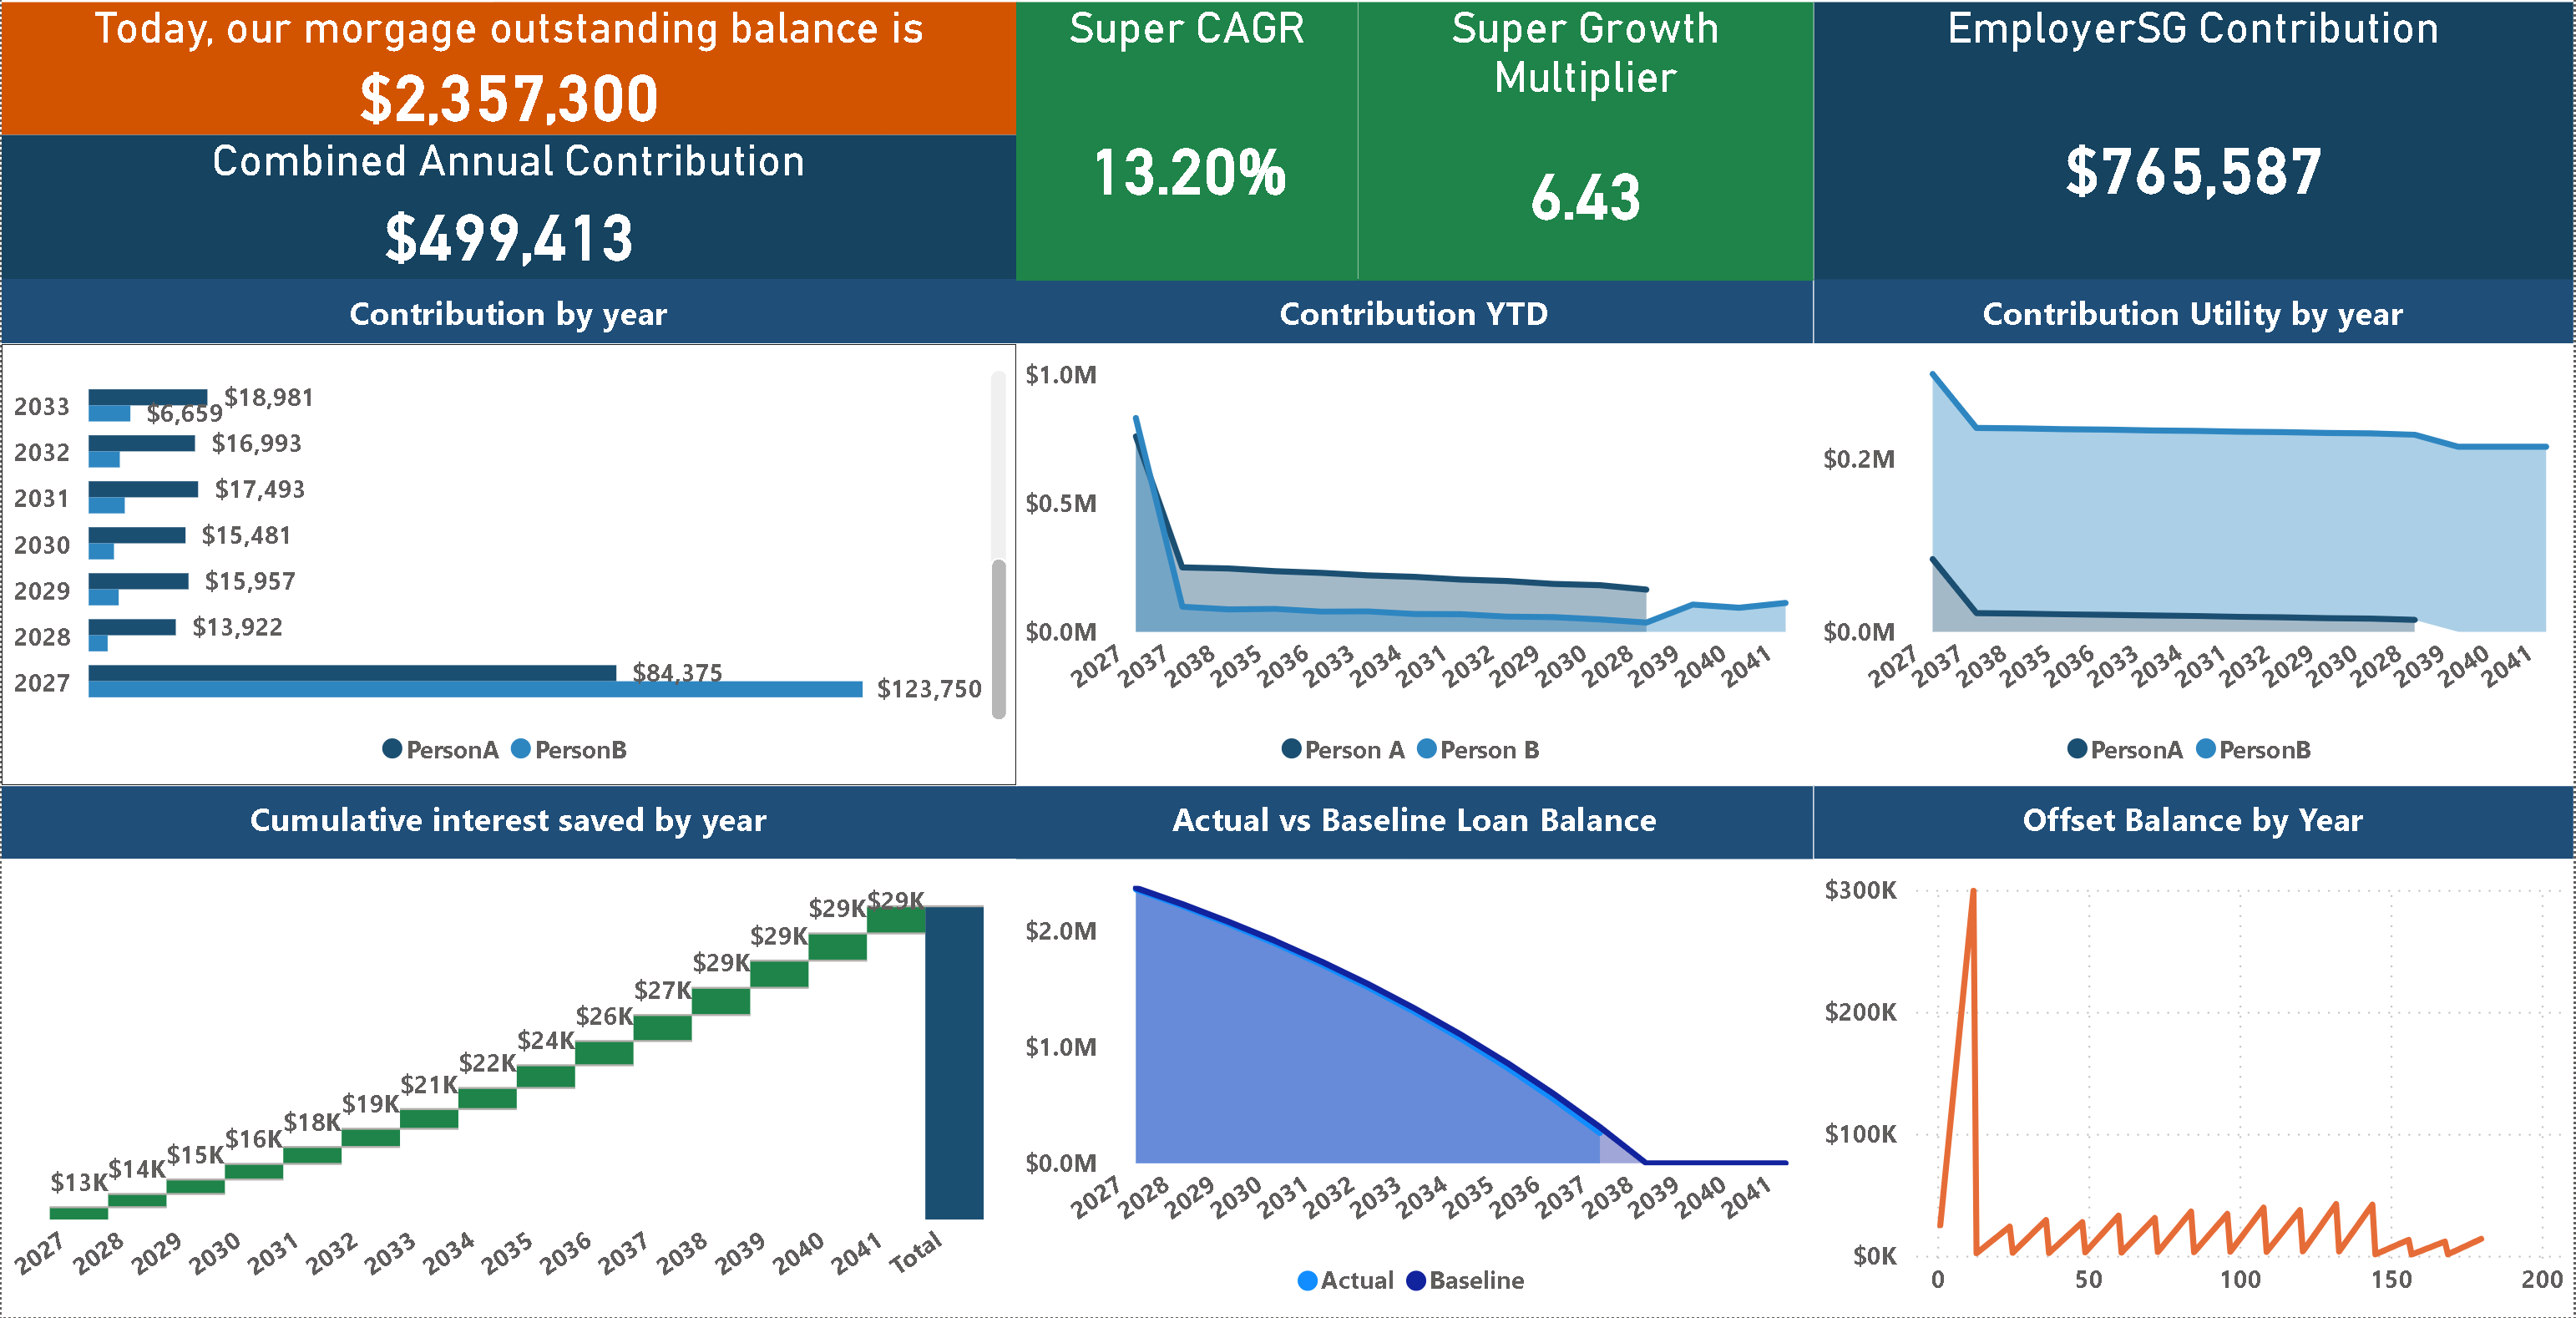

Layout of this report page (visuals, bound fields, positions):
{"tool":"powerbi","page":{"name":"Morgage Parameters","canvas":[1280,720],"ordinal":2},"visuals":[{"type":"card","title":"Today, our morgage outstanding balance is","fields":{"Values":["_Measures.Mortgage_Balance_Today"]},"box":[0,65.4,505.2,66],"z":0},{"type":"card","title":"Combined Annual Contribution","fields":{"Values":["_Measures.Total Contribution"]},"box":[0,131.4,505.2,72.2],"z":1000},{"type":"textbox","box":[0,455.5,505.2,36.8],"z":2000},{"type":"waterfallChart","fields":{"Y":["_Measures.Cum_Interest_Saved"],"Category":["Years.Year"]},"box":[0,492.3,505.2,228.1],"z":3000},{"type":"textbox","box":[902.1,455.5,377.9,36.8],"z":4000},{"type":"lineChart","fields":{"Y":["_Measures.Offset_Balance_By_Period"],"Category":["Tbl_Offset.Period"]},"box":[902.1,492.3,377.9,228.1],"z":5000},{"type":"textbox","box":[505.2,455.5,396.9,37.4],"z":6000},{"type":"areaChart","fields":{"Y":["_Measures.Actual_Loan_Balance","_Measures.Baseline_Loan_Balance"],"Category":["Years.Year"]},"box":[505.2,492.3,396.9,228.1],"z":7000},{"type":"clusteredBarChart","fields":{"Y":["Sum(Tbl_PersonaA.ActualContribution)","Sum(Tbl_PersonaB.ActualContribution)"],"Category":["Years.Year"]},"box":[0,235.6,505.2,219.9],"z":8000},{"type":"textbox","box":[0,203.6,505.2,32],"z":9000},{"type":"areaChart","fields":{"Y":["Sum(Tbl_PersonaA.CumulativeContributionYTD)","Sum(Tbl_PersonaB.CumulativeContributionYTD)"],"Category":["Years.Year"]},"box":[505.2,235.6,396.9,219.9],"z":10000},{"type":"textbox","box":[505.2,203.6,396.9,32],"z":11000},{"type":"stackedAreaChart","fields":{"Category":["Years.Year"],"Y":["Sum(Tbl_YearlyParamsA.PersonalContributionUsed)","Sum(Tbl_YearlyParamsB.PersonalContributionUsed)"]},"box":[902.1,235.6,377.9,219.9],"z":12000},{"type":"textbox","box":[902.1,203.6,377.9,32],"z":13000},{"type":"card","title":"Super CAGR","fields":{"Values":["_Measures.CAGR Super"]},"box":[505.2,65.4,170.2,138.9],"z":14000},{"type":"card","title":"Super Growth Multiplier","fields":{"Values":["_Measures.Super Growth Multiple"]},"box":[675.4,65.4,226.7,138.9],"z":15000},{"type":"card","title":"EmployerSG Contribution","fields":{"Values":["_Measures.Employer SG Captured"]},"box":[902.1,65.4,377.9,138.2],"z":16000},{"type":"slicer","fields":{"Values":["Years.Year"]},"box":[0,0,244.4,65.4],"z":17000}]}

Visuals, with their boxes on the page's 1280x720 design canvas (x1, y1, x2, y2). These are canvas units, not pixel positions in the 2576x1318 screenshot, which may show the page scaled, cropped or inside an application window:
"Today, our morgage outstanding balance is" card: (x1=0, y1=65, x2=505, y2=131)
"Combined Annual Contribution" card: (x1=0, y1=131, x2=505, y2=204)
textbox: (x1=0, y1=456, x2=505, y2=492)
waterfallChart - _Measures.Cum_Interest_Saved x Years.Year: (x1=0, y1=492, x2=505, y2=720)
textbox: (x1=902, y1=456, x2=1280, y2=492)
lineChart - _Measures.Offset_Balance_By_Period x Tbl_Offset.Period: (x1=902, y1=492, x2=1280, y2=720)
textbox: (x1=505, y1=456, x2=902, y2=493)
areaChart - _Measures.Actual_Loan_Balance x _Measures.Baseline_Loan_Balance: (x1=505, y1=492, x2=902, y2=720)
clusteredBarChart - Sum(Tbl_PersonaA.ActualContribution) x Sum(Tbl_PersonaB.ActualContribution): (x1=0, y1=236, x2=505, y2=456)
textbox: (x1=0, y1=204, x2=505, y2=236)
areaChart - Sum(Tbl_PersonaA.CumulativeContributionYTD) x Sum(Tbl_PersonaB.CumulativeContributionYTD): (x1=505, y1=236, x2=902, y2=456)
textbox: (x1=505, y1=204, x2=902, y2=236)
stackedAreaChart - Years.Year x Sum(Tbl_YearlyParamsA.PersonalContributionUsed): (x1=902, y1=236, x2=1280, y2=456)
textbox: (x1=902, y1=204, x2=1280, y2=236)
"Super CAGR" card: (x1=505, y1=65, x2=675, y2=204)
"Super Growth Multiplier" card: (x1=675, y1=65, x2=902, y2=204)
"EmployerSG Contribution" card: (x1=902, y1=65, x2=1280, y2=204)
slicer - Years.Year: (x1=0, y1=0, x2=244, y2=65)
